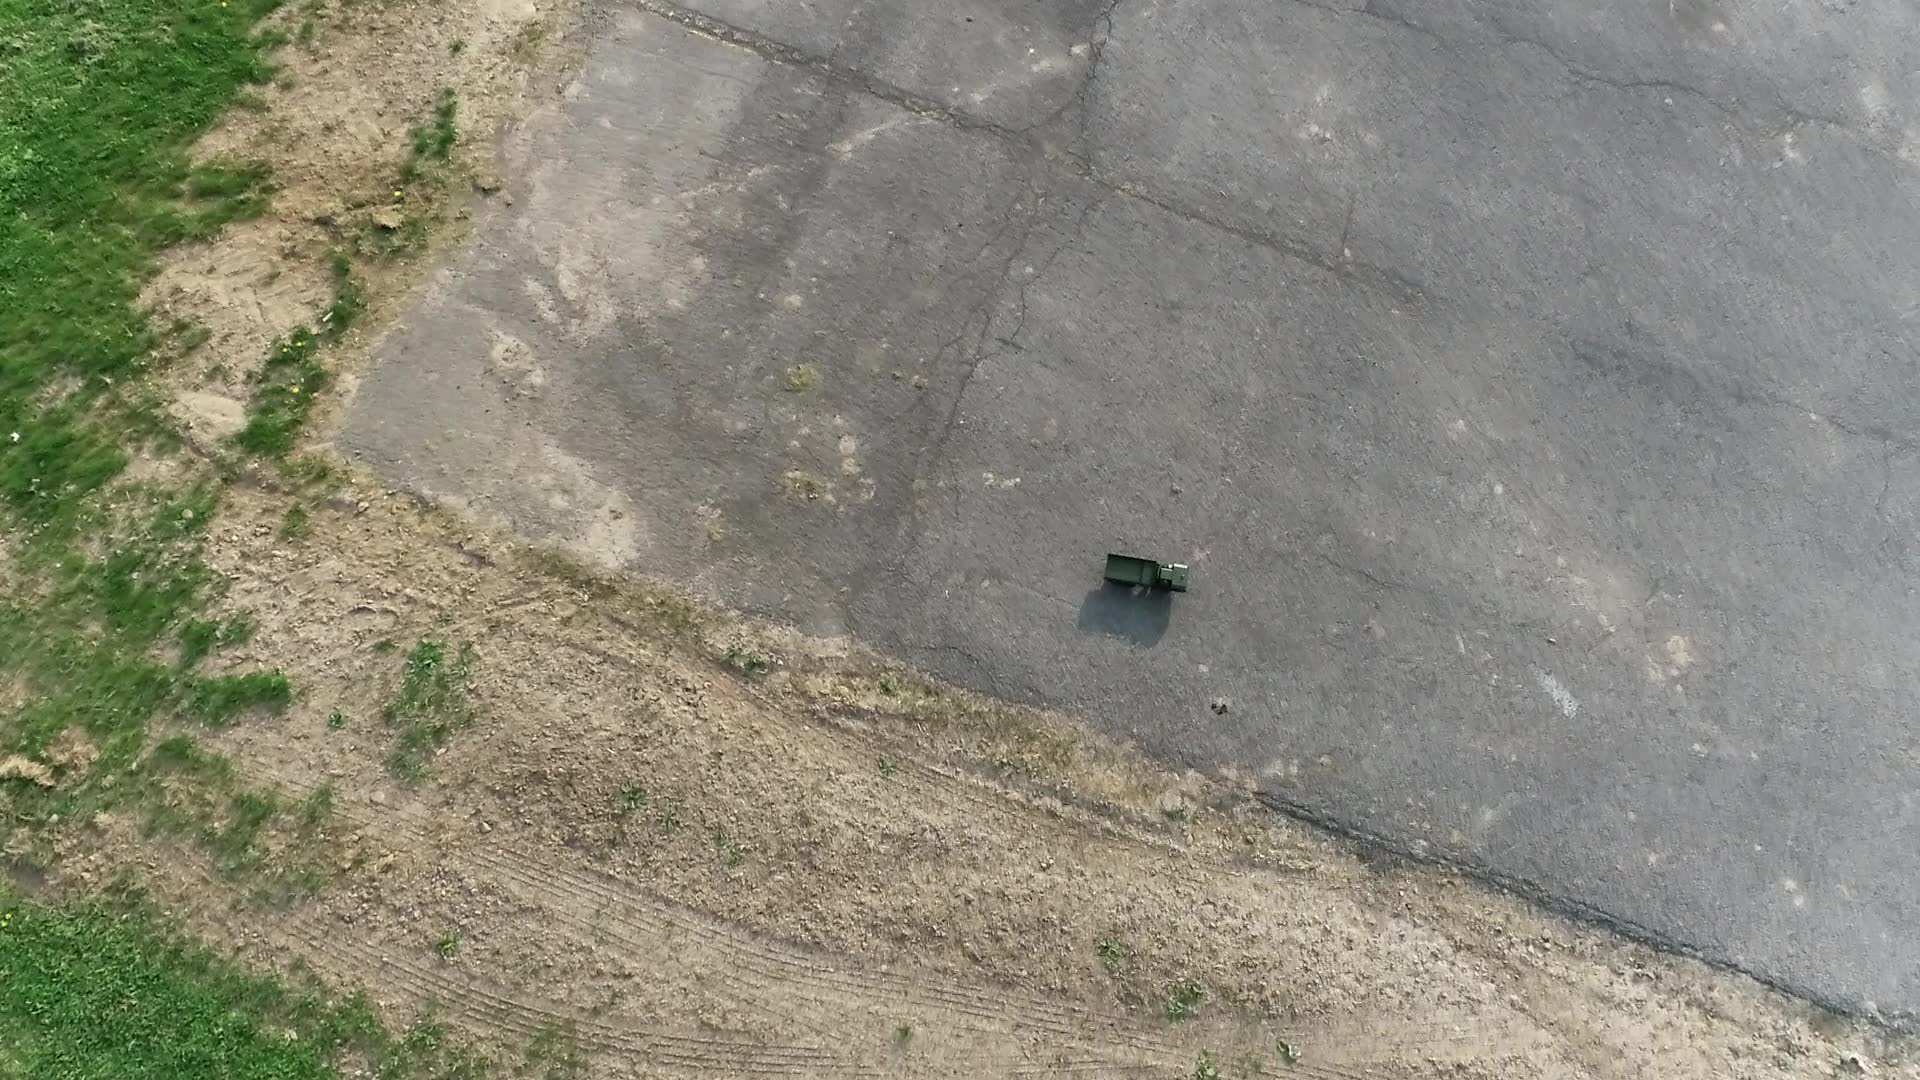transporter9: (1100, 547, 1193, 603)
